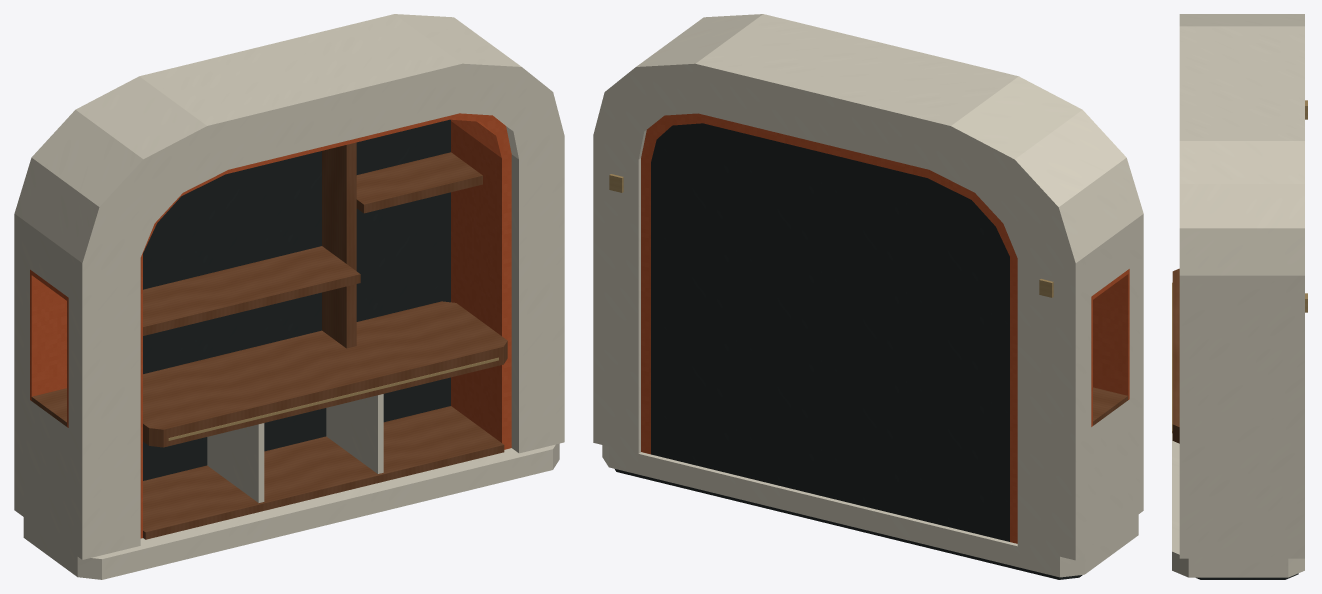
Rendered from AST-RTL-001.glb.
The picture shows the model from 3 angles, left to right: view 1: azimuth 30°, elevation 25°; view 2: azimuth 150°, elevation 25°; view 3: azimuth 270°, elevation 25°; orthographic projection. The views are drawn at different scales.
Parts seen in each view (by area): view 1: AST-RTL-001__ivory_enamel, AST-RTL-001__warm_walnut, AST-RTL-001__dark_rubber, AST-RTL-001__retail_terracotta_enamel, AST-RTL-001__champagne_metal; view 2: AST-RTL-001__dark_rubber, AST-RTL-001__ivory_enamel, AST-RTL-001__retail_terracotta_enamel, AST-RTL-001__warm_walnut; view 3: AST-RTL-001__ivory_enamel, AST-RTL-001__warm_walnut, AST-RTL-001__dark_rubber, AST-RTL-001__champagne_metal.
Part boxes in pixels (left/top/right/bottom): AST-RTL-001__ivory_enamel: left=14, top=14, right=564, bottom=579; AST-RTL-001__warm_walnut: left=31, top=142, right=507, bottom=539; AST-RTL-001__dark_rubber: left=143, top=119, right=450, bottom=480; AST-RTL-001__retail_terracotta_enamel: left=30, top=113, right=511, bottom=538; AST-RTL-001__champagne_metal: left=168, top=357, right=498, bottom=440; AST-RTL-001__dark_rubber: left=615, top=123, right=1082, bottom=579; AST-RTL-001__ivory_enamel: left=593, top=14, right=1143, bottom=577; AST-RTL-001__retail_terracotta_enamel: left=641, top=113, right=1129, bottom=543; AST-RTL-001__warm_walnut: left=1093, top=387, right=1128, bottom=425; AST-RTL-001__ivory_enamel: left=1172, top=14, right=1304, bottom=577; AST-RTL-001__warm_walnut: left=1172, top=268, right=1179, bottom=443; AST-RTL-001__dark_rubber: left=1196, top=573, right=1298, bottom=579; AST-RTL-001__champagne_metal: left=1172, top=100, right=1307, bottom=433.
Size of the model in its own units: 3.4 by 2.9 by 0.9.
5 materials, 5 textured.
